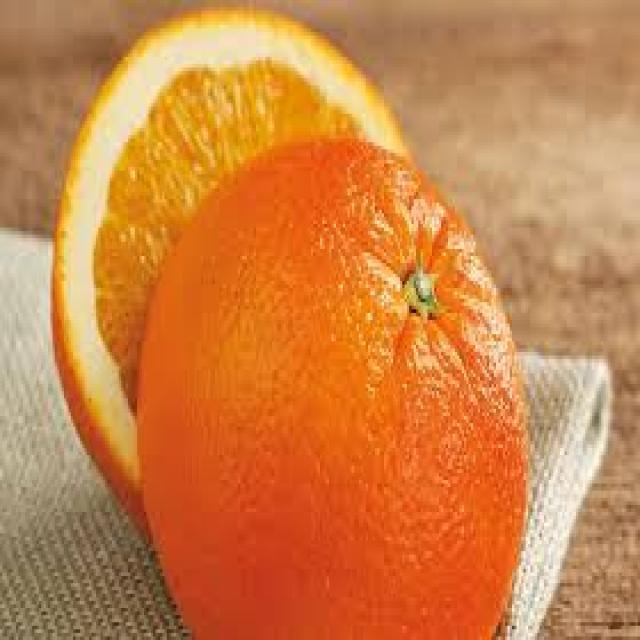non-mango: (37, 0, 578, 636)
